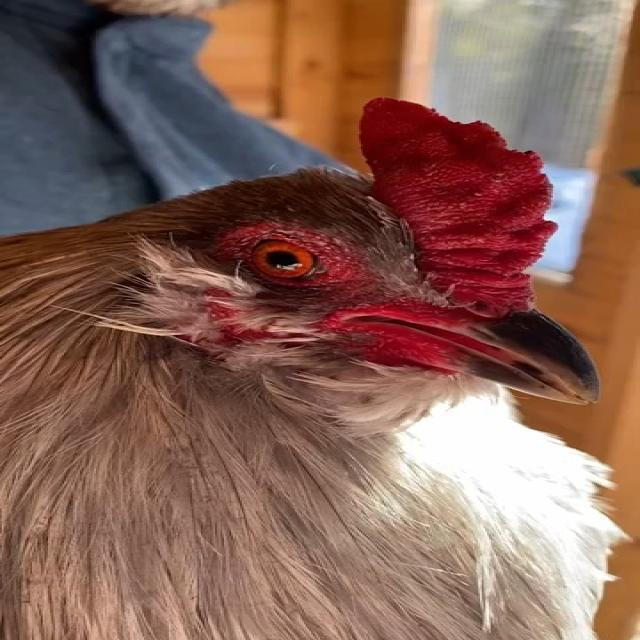Breathing: (2, 94, 629, 638)
